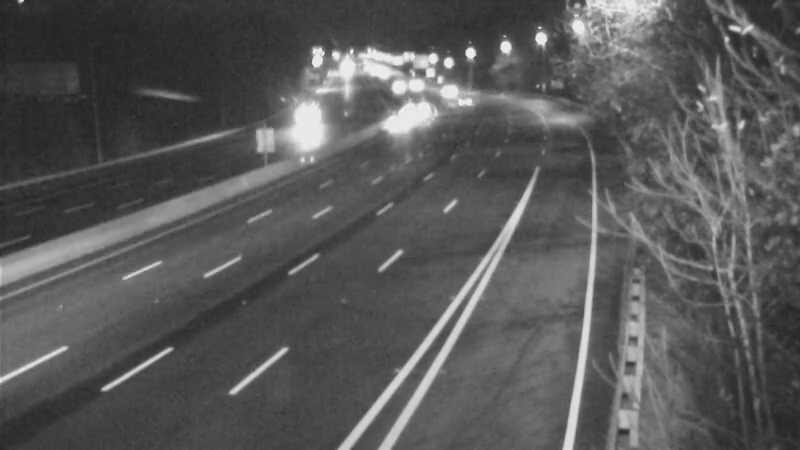vehicle: (371, 63, 421, 113), (391, 58, 441, 108), (427, 65, 477, 115), (439, 77, 489, 127), (394, 87, 444, 137), (369, 100, 419, 150), (272, 89, 322, 139)
